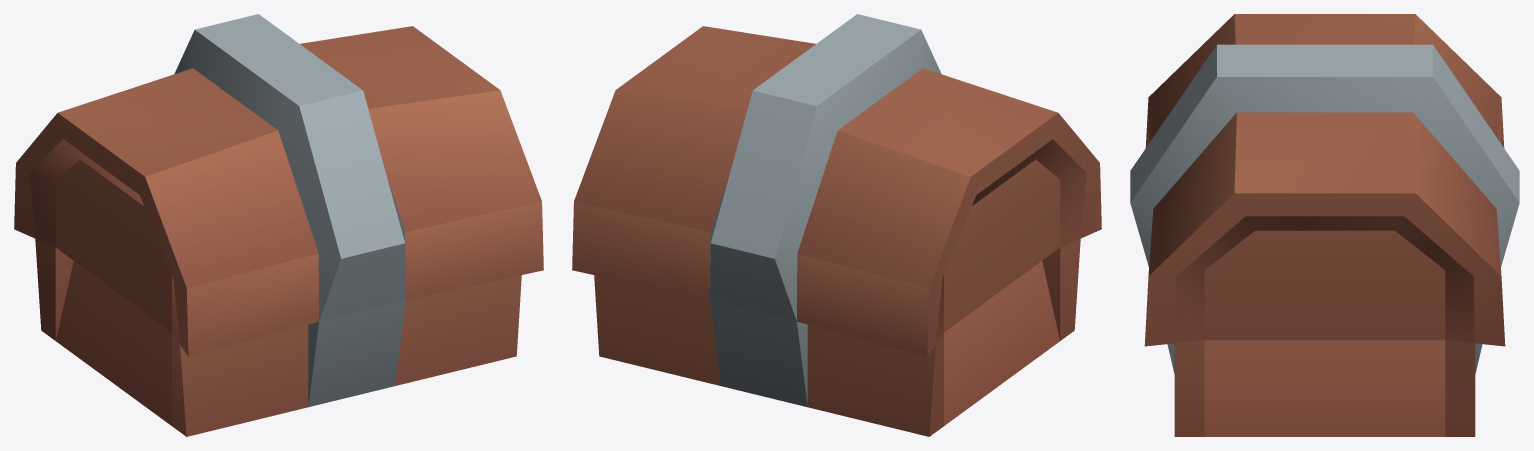
File: trunk_medium_C.gltf
3 views of the same model, side by side, from view 1: azimuth 30°, elevation 25°; view 2: azimuth 150°, elevation 25°; view 3: azimuth 270°, elevation 25° (orthographic). The views are drawn at different scales.
Visible parts, largest first — view 1: trunk_medium_C; view 2: trunk_medium_C; view 3: trunk_medium_C.
Boxes of the visible parts, bbox=[...] form: trunk_medium_C: bbox=[14, 14, 543, 436]; trunk_medium_C: bbox=[572, 14, 1101, 436]; trunk_medium_C: bbox=[1130, 14, 1519, 436].
Bounding box in the file's own units: 0.953 × 0.7265 × 0.8751.
Materials: 1 (1 with a texture image).
